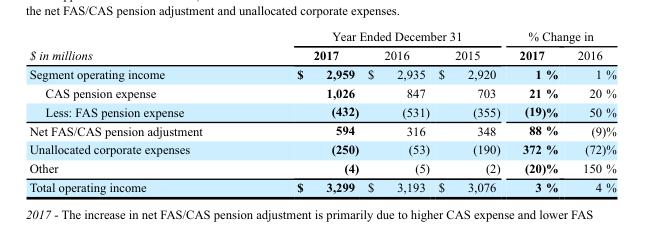table: (28, 28, 615, 194)
table column: (28, 28, 249, 194), (249, 28, 362, 194), (433, 28, 509, 194), (362, 28, 433, 194), (509, 28, 567, 194), (567, 28, 615, 194)
table column header: (28, 28, 615, 63)
table row: (28, 63, 615, 82), (28, 82, 615, 101), (28, 101, 615, 120), (28, 120, 615, 139), (28, 139, 615, 158), (28, 158, 615, 177), (28, 45, 615, 63), (28, 28, 615, 45), (28, 177, 615, 194)
table spanning cell: (28, 28, 249, 63), (249, 28, 509, 45), (509, 28, 615, 45)
